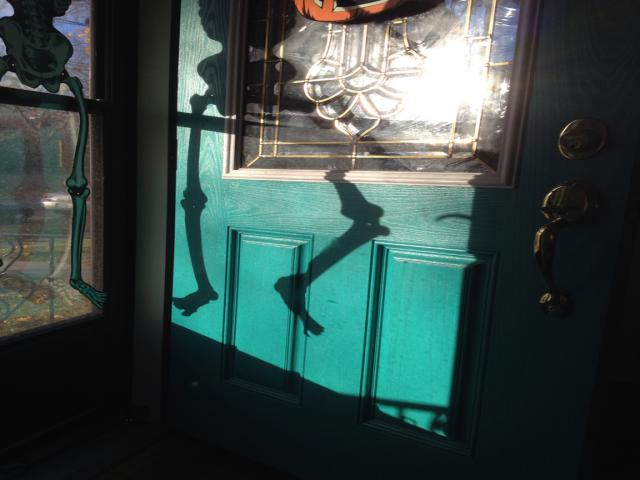Door-handle: (538, 180, 602, 319)
